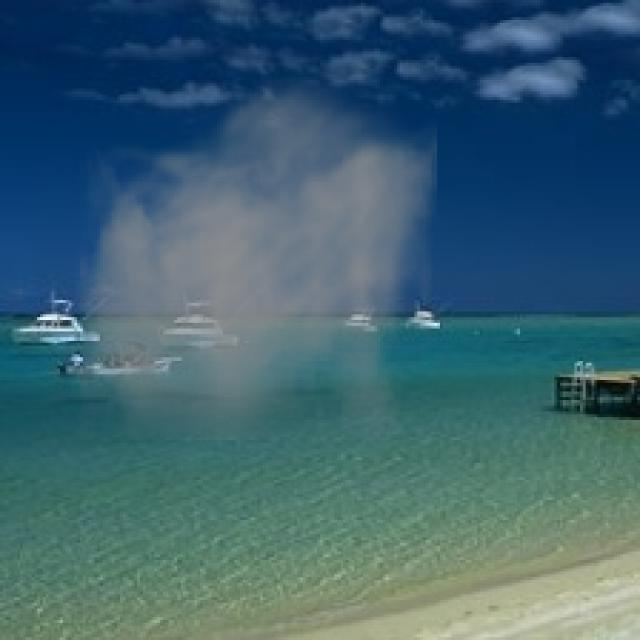Smoke: (74, 66, 437, 440)
